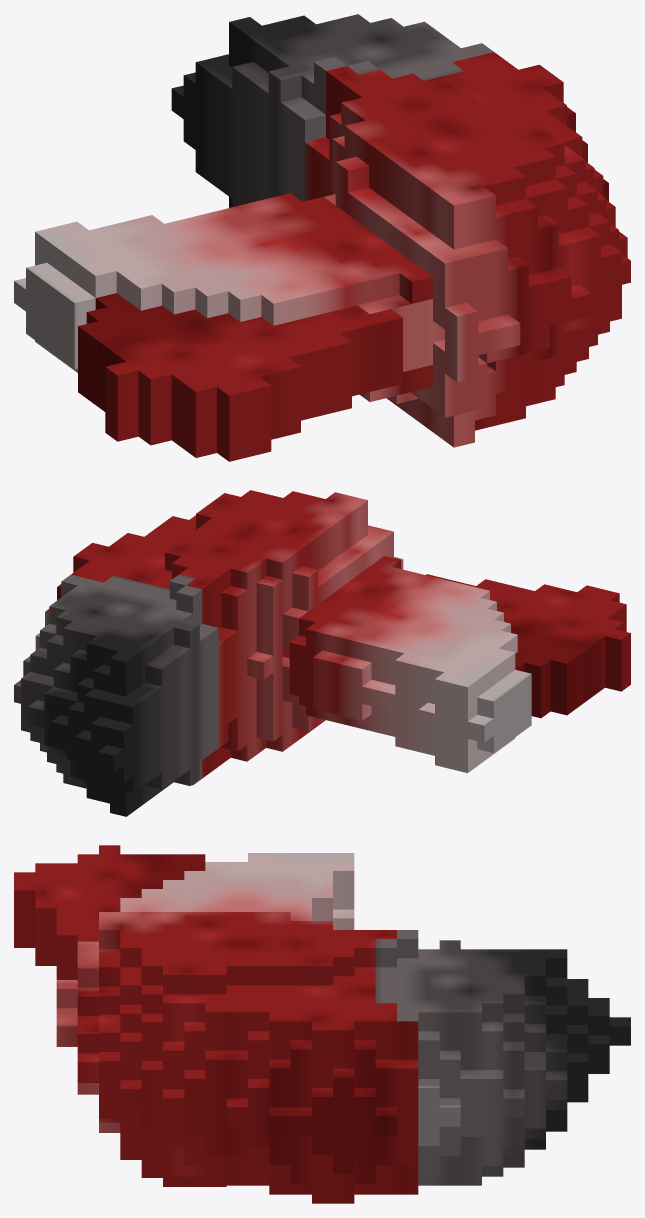
Rendered from CrabLeg.fbx.
3 renders of one model, top to bottom at view 1: azimuth 30°, elevation 25°; view 2: azimuth 150°, elevation 25°; view 3: azimuth 270°, elevation 25°, orthographic. The views are drawn at different scales.
Visible parts, largest first — view 1: Cube.037; view 2: Cube.037; view 3: Cube.037.
Boxes of the visible parts, left/top/right/bottom form: Cube.037: left=14, top=14, right=630, bottom=461; Cube.037: left=14, top=490, right=630, bottom=816; Cube.037: left=14, top=845, right=630, bottom=1203.
Size of the model in its own units: 216 by 84.87 by 224.
Materials: 1 (1 with a texture image).
